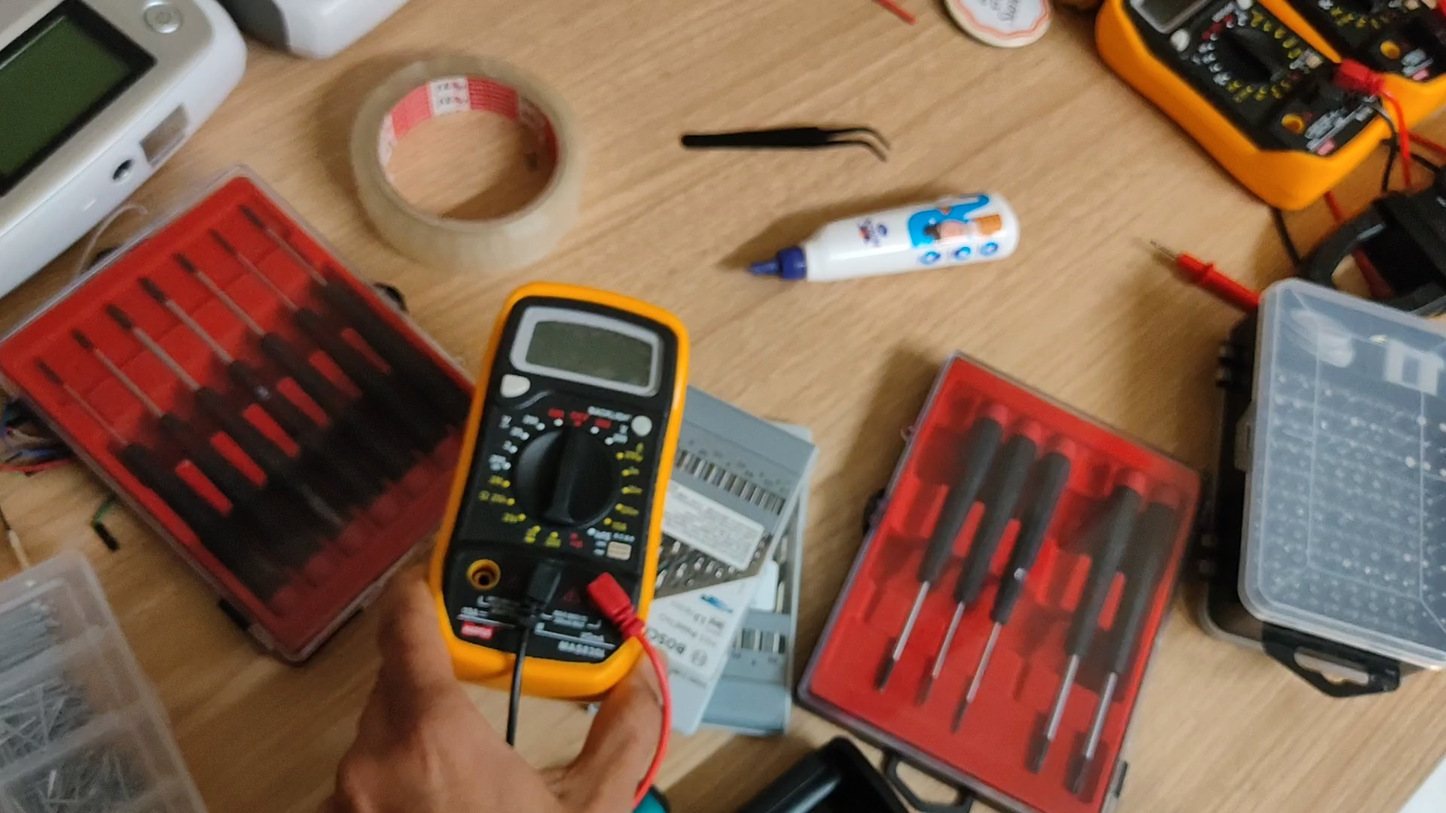multimeter: (429, 284, 689, 700)
